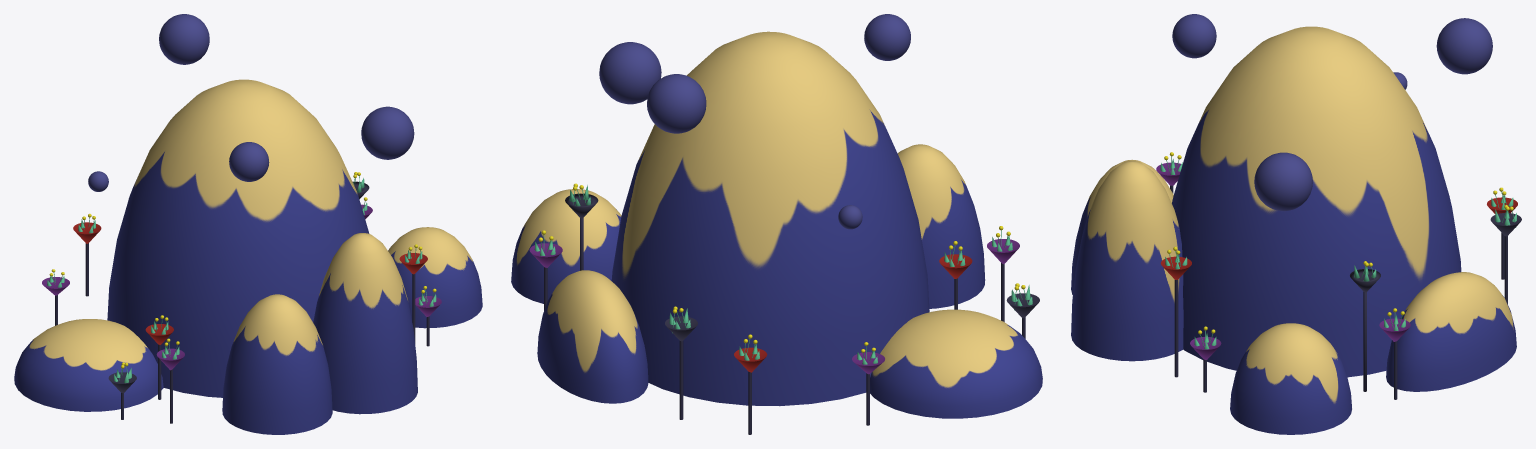
The model's file is rock_round_2.glb.
The picture shows the model from 3 angles, left to right: view 1: azimuth 30°, elevation 25°; view 2: azimuth 150°, elevation 25°; view 3: azimuth 270°, elevation 25°; orthographic projection. The views are drawn at different scales.
Visible parts, largest first — view 1: Sphere.010; view 2: Sphere.010; view 3: Sphere.010.
Part boxes in pixels (box(x1,y1,x2,y2)): Sphere.010: box(14, 14, 482, 434); Sphere.010: box(511, 14, 1042, 434); Sphere.010: box(1071, 14, 1521, 434).
Bounding box in the file's own units: 12.91 × 7.67 × 10.28.
Materials: 8 (1 with a texture image).
